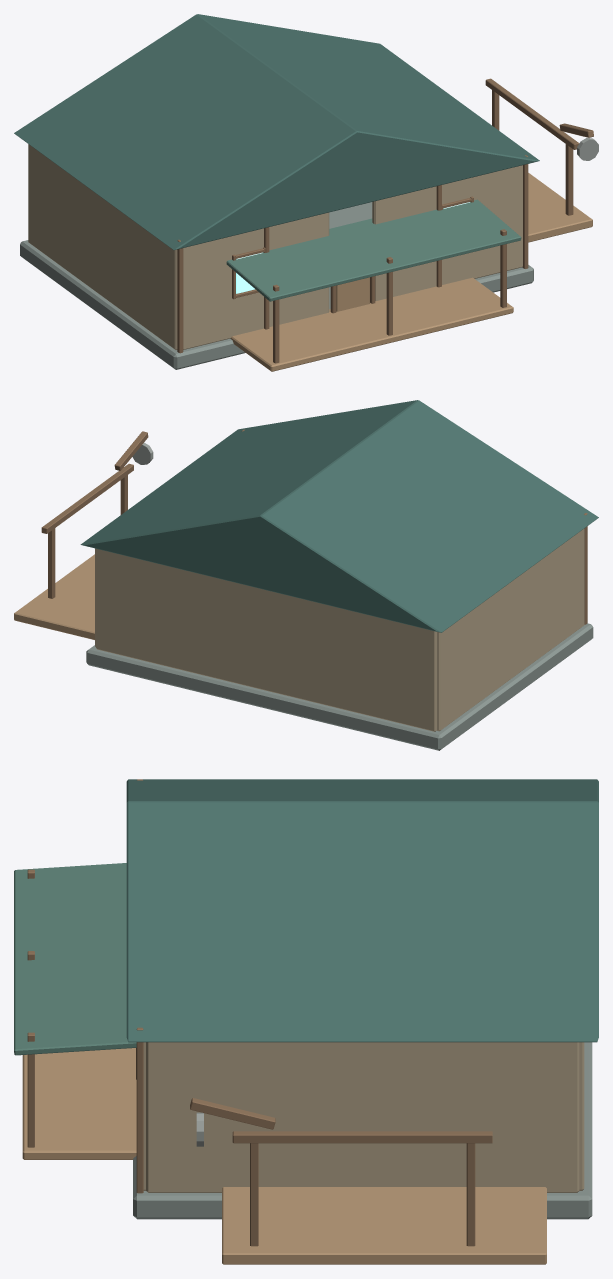
File: LumenQuartermasterDepot.glb
3 renders of one model, top to bottom at view 1: azimuth 30°, elevation 25°; view 2: azimuth 150°, elevation 25°; view 3: azimuth 270°, elevation 25°, orthographic. The views are drawn at different scales.
Parts seen in each view (by area): view 1: LumenQuartermasterDepot; view 2: LumenQuartermasterDepot; view 3: LumenQuartermasterDepot.
Boxes of the visible parts, x1=… form: LumenQuartermasterDepot: x1=14, y1=14, x2=598, y2=371; LumenQuartermasterDepot: x1=14, y1=400, x2=598, y2=750; LumenQuartermasterDepot: x1=14, y1=779, x2=598, y2=1264.
Size of the model in its own units: 35.33 by 14.77 by 27.
